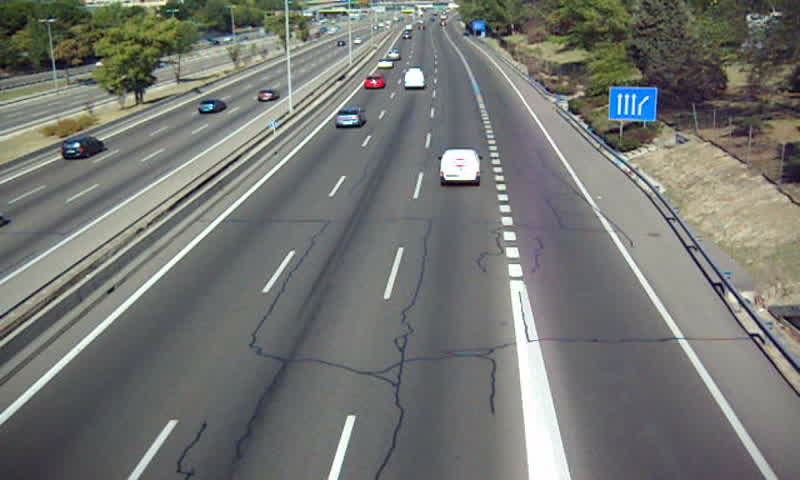car: (335, 107, 366, 129), (364, 76, 385, 90)
van: (440, 149, 482, 185), (404, 69, 425, 90)
